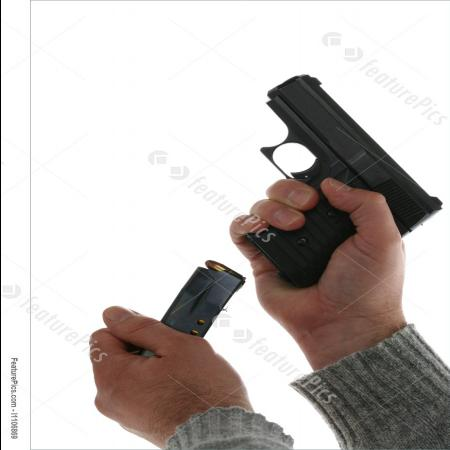Pistol: (246, 61, 444, 295)
